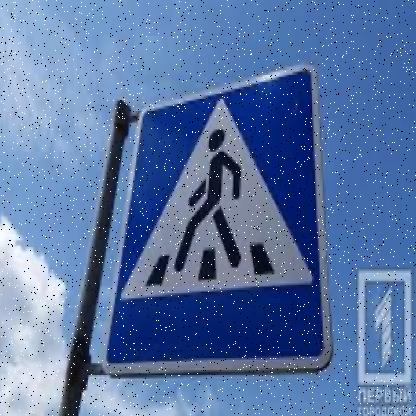Pedestrian Crossing: (109, 76, 322, 362)
